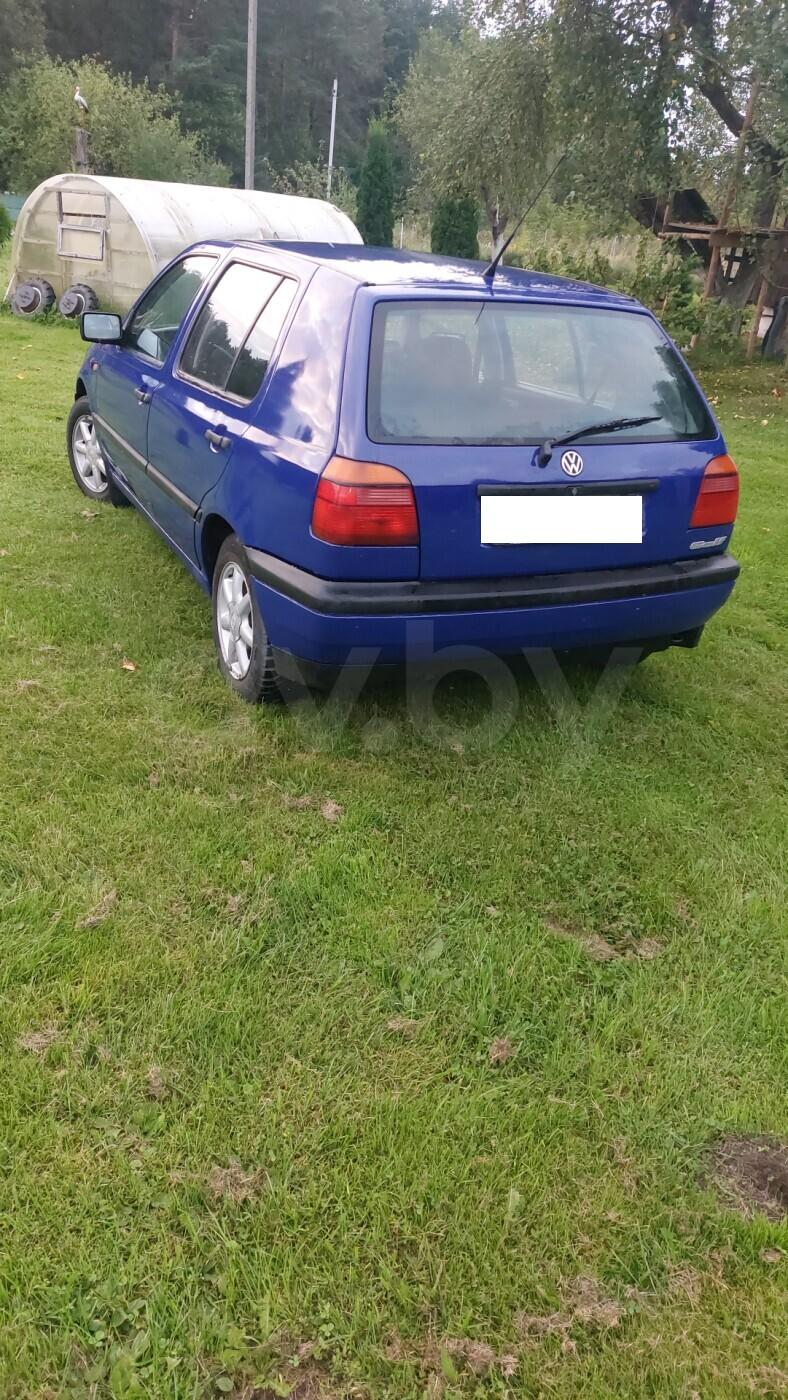Golf_1991-2000: (62, 226, 753, 724)
